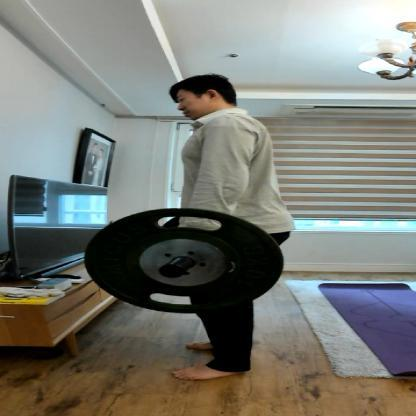Barbell: (152, 262, 195, 283)
